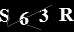3: (38, 8, 48, 22)
6: (18, 11, 30, 26)
R: (58, 7, 73, 22)
S: (1, 7, 9, 23)
